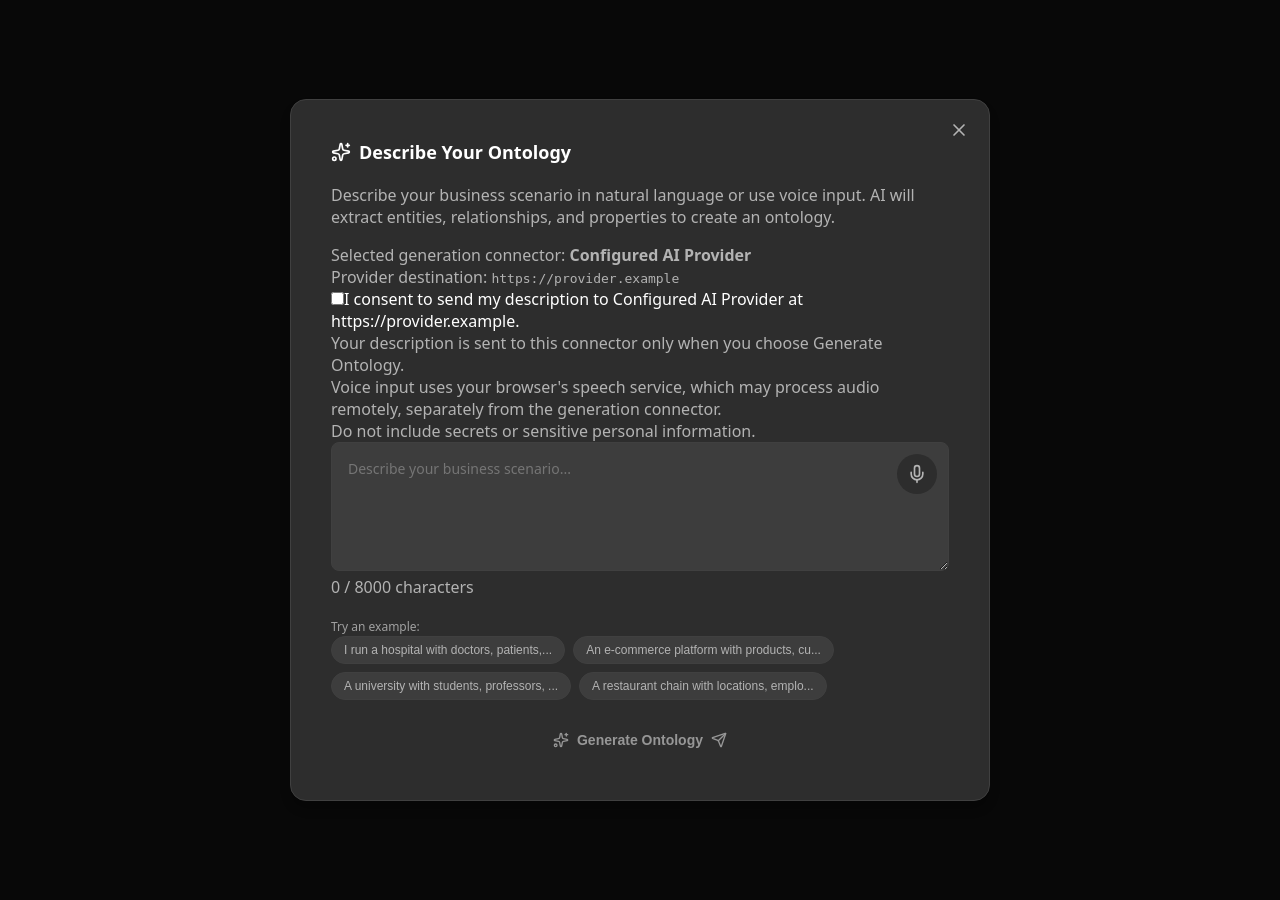
NLBuilderModal validation › rejects generated blank identifier name before preview or apply
Click the checkbox labelled "I consent to send" at (338, 298), box [331,292,344,305]
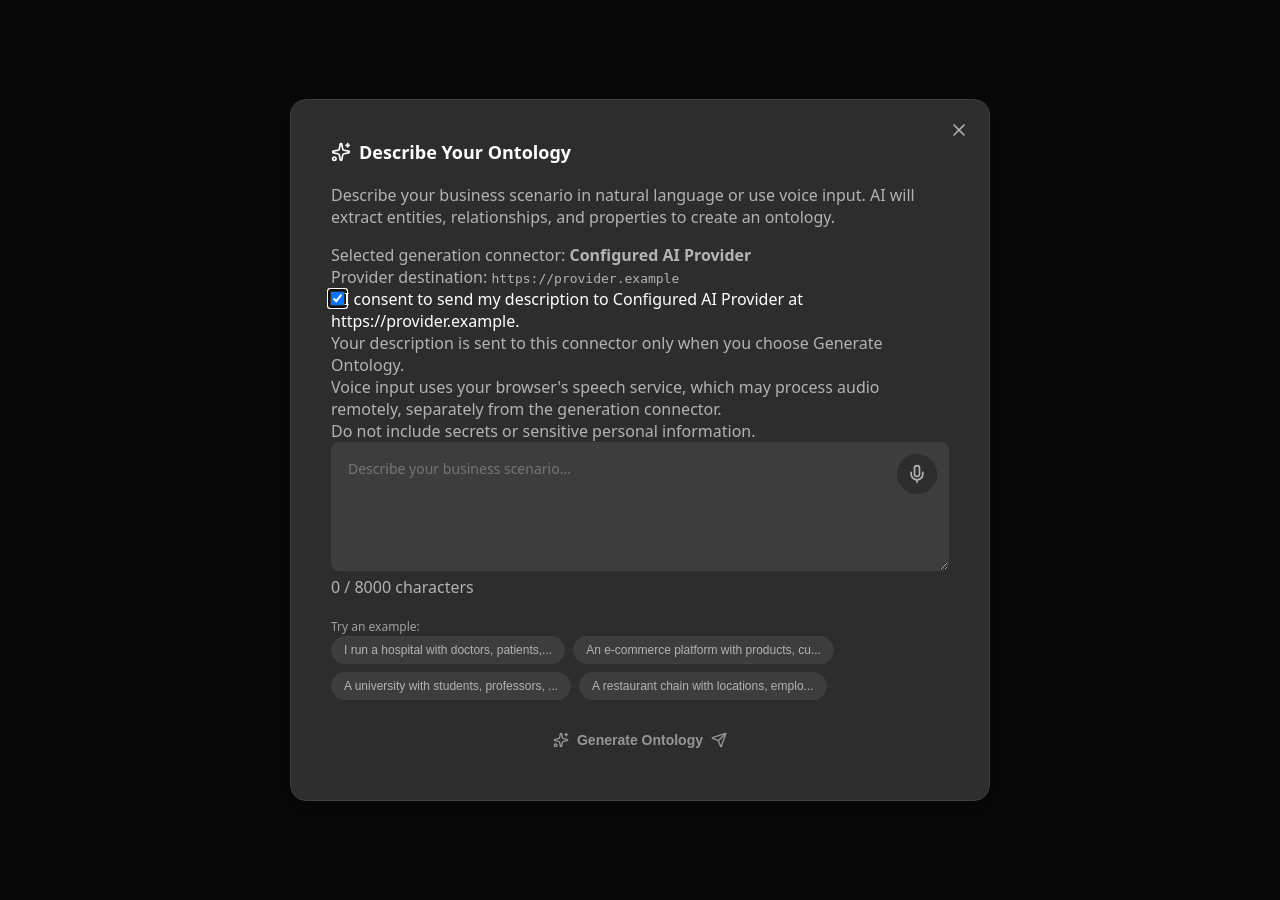
Type "Track inventory" into the text box at (640, 506), box [331,442,949,571]
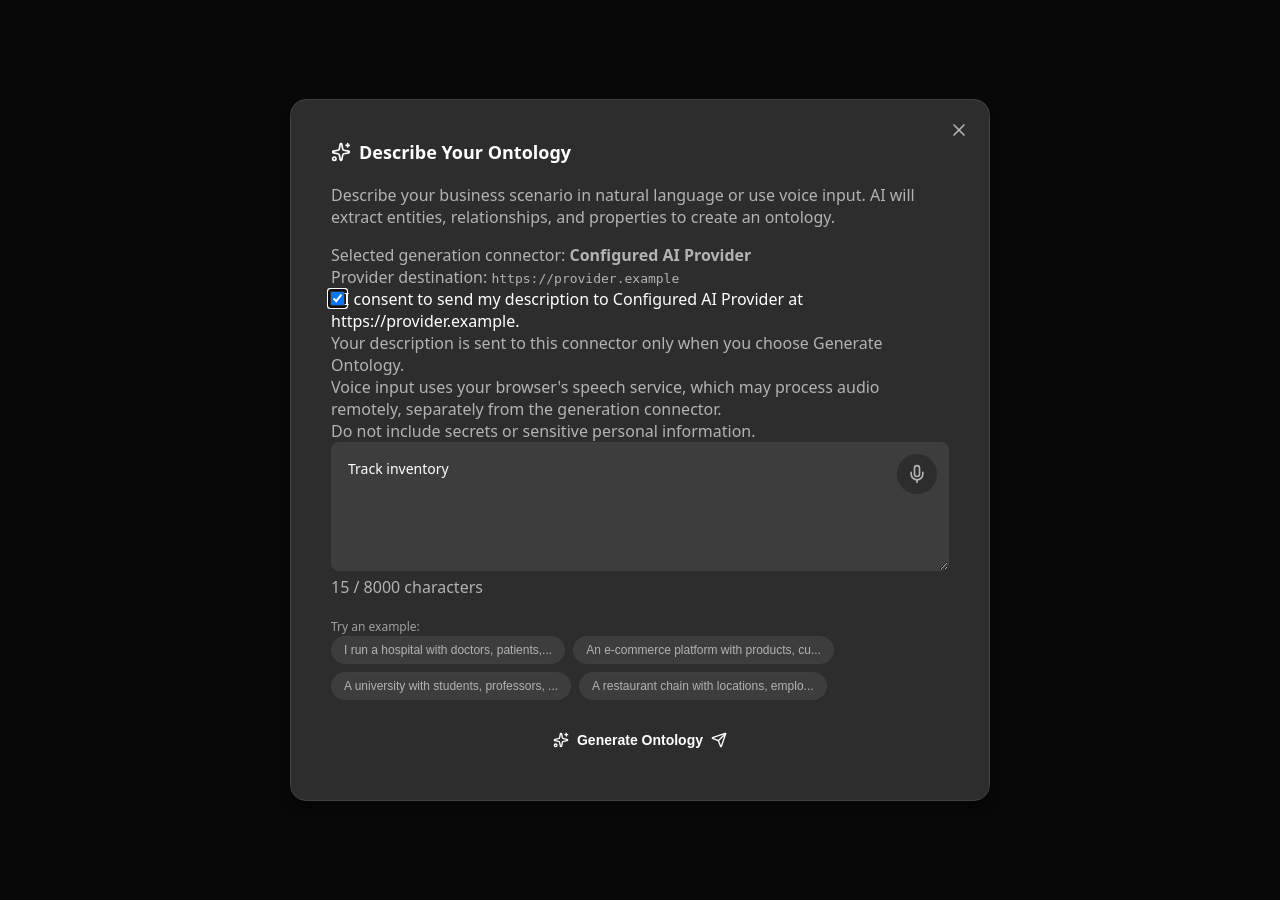
Click the button "Generate Ontology" at (640, 740), box [331,720,949,760]
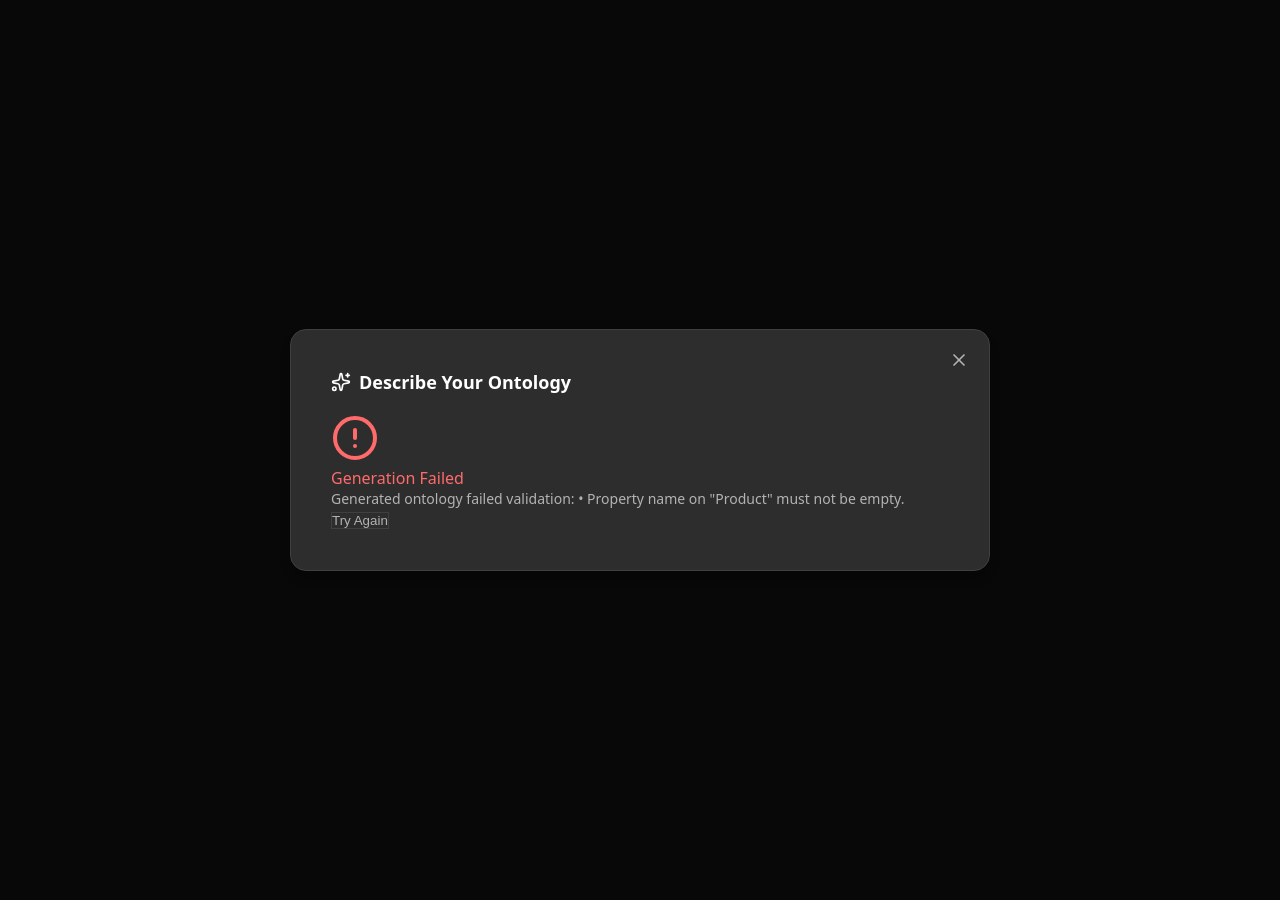
expect the text "Generation Failed" is shown: met, box [331,467,464,489]
